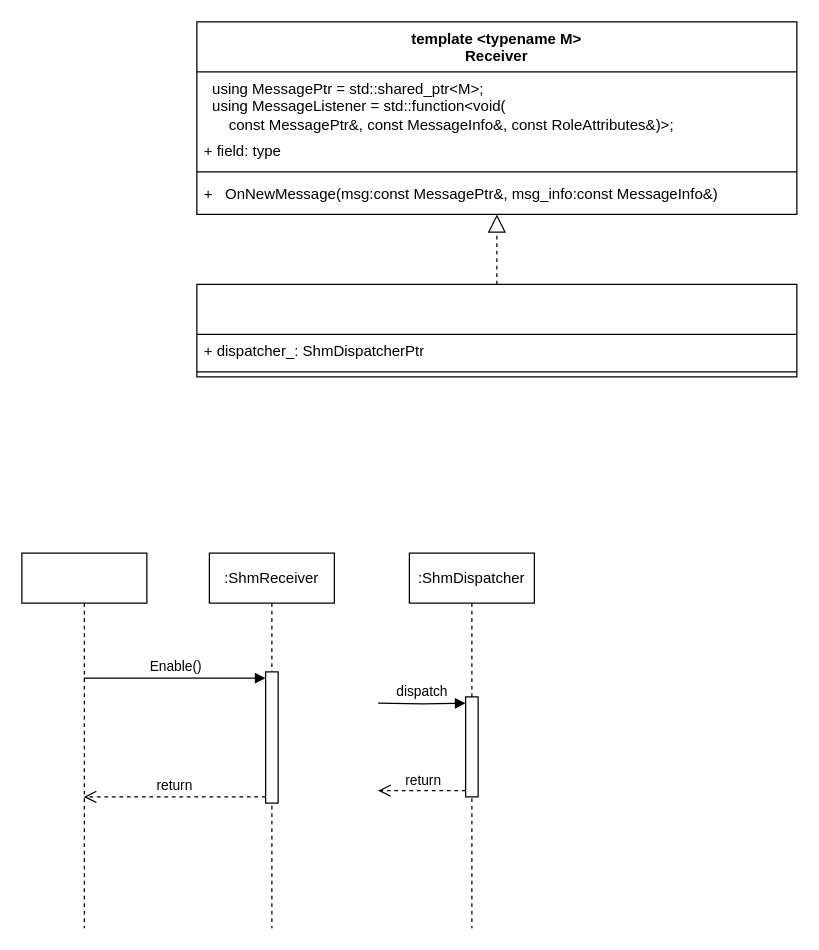
Image size: 819x950. Some labels were removed from this diagram. Each missing label, with the box of its shape:
:Object: (21, 552, 147, 928)
template <typename M> ShmReceiver: (196, 283, 797, 377)
